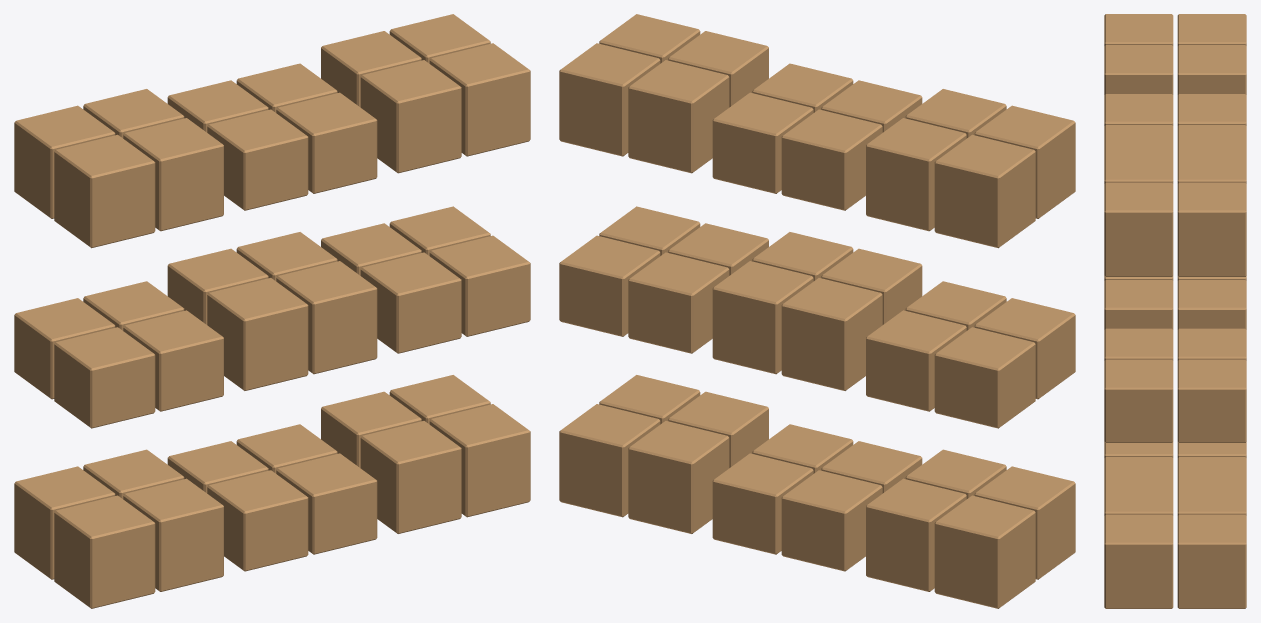
File: carton_stock.glb
3 views of the same model, side by side, from view 1: azimuth 30°, elevation 25°; view 2: azimuth 150°, elevation 25°; view 3: azimuth 270°, elevation 25° (orthographic). The views are drawn at different scales.
Parts seen in each view (by area): view 1: carton_stock_parts; view 2: carton_stock_parts; view 3: carton_stock_parts.
Boxes of the visible parts, <box> form: carton_stock_parts: <box>14,14,530,608</box>; carton_stock_parts: <box>559,14,1075,608</box>; carton_stock_parts: <box>1104,14,1246,608</box>.
Bounding box in the file's own units: 2.3 × 2.16 × 0.7.
